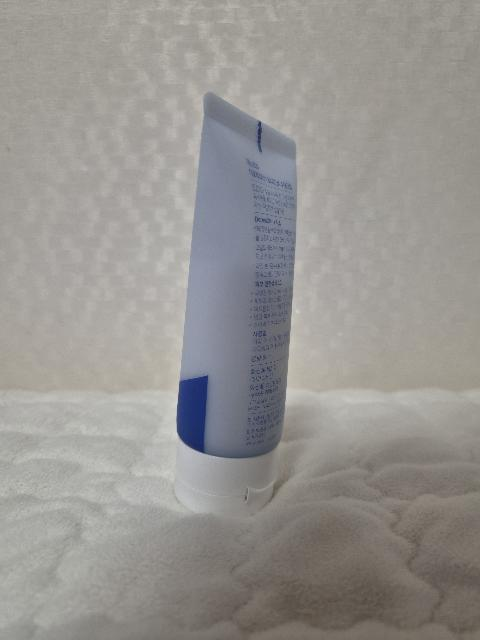handcream: (174, 91, 297, 519)
